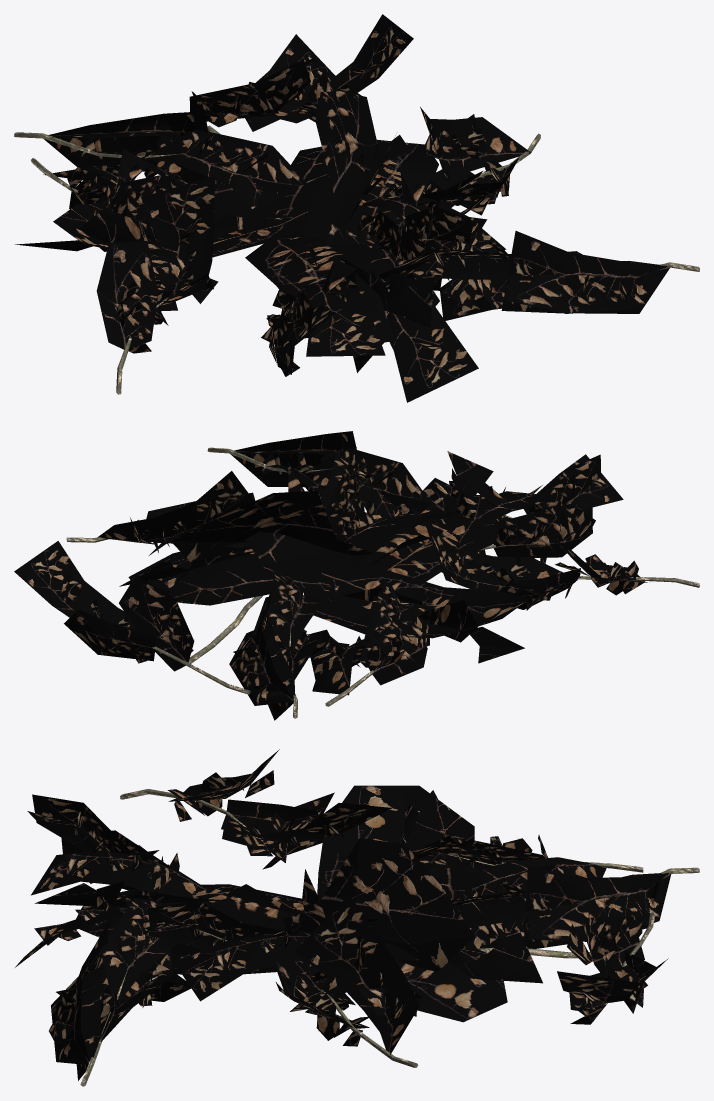
The model's file is SM_Branch_B_01.fbx.
The picture shows the model from 3 angles, top to bottom: view 1: azimuth 30°, elevation 25°; view 2: azimuth 150°, elevation 25°; view 3: azimuth 270°, elevation 25°; orthographic projection. The views are drawn at different scales.
Visible parts, largest first — view 1: SM_Branch_B_01; view 2: SM_Branch_B_01; view 3: SM_Branch_B_01.
Part boxes in pixels (<box>): SM_Branch_B_01: <box>14,14,699,402</box>; SM_Branch_B_01: <box>14,431,699,720</box>; SM_Branch_B_01: <box>15,749,699,1086</box>.
Bounding box in the file's own units: 341 × 343 × 89.91.
Materials: 2 (2 with a texture image).
